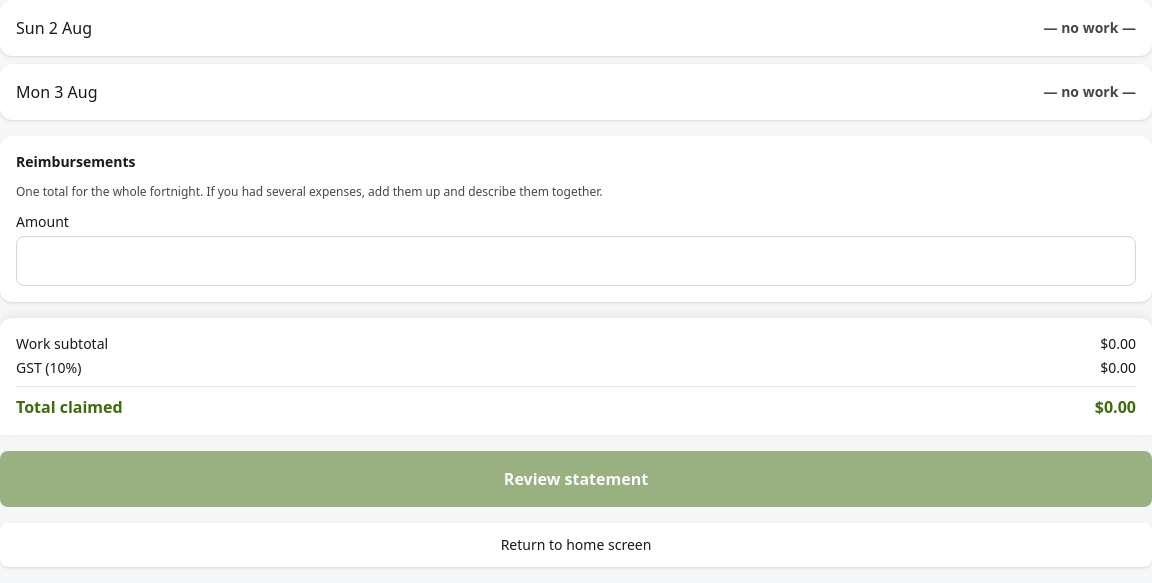
FortnightlyForm incomplete reimbursement gating › re-enables Review once a description is filled in
(page scrolled)
In the number field labelled "Amount": (576, 261) [16,236,1136,286], type "45"
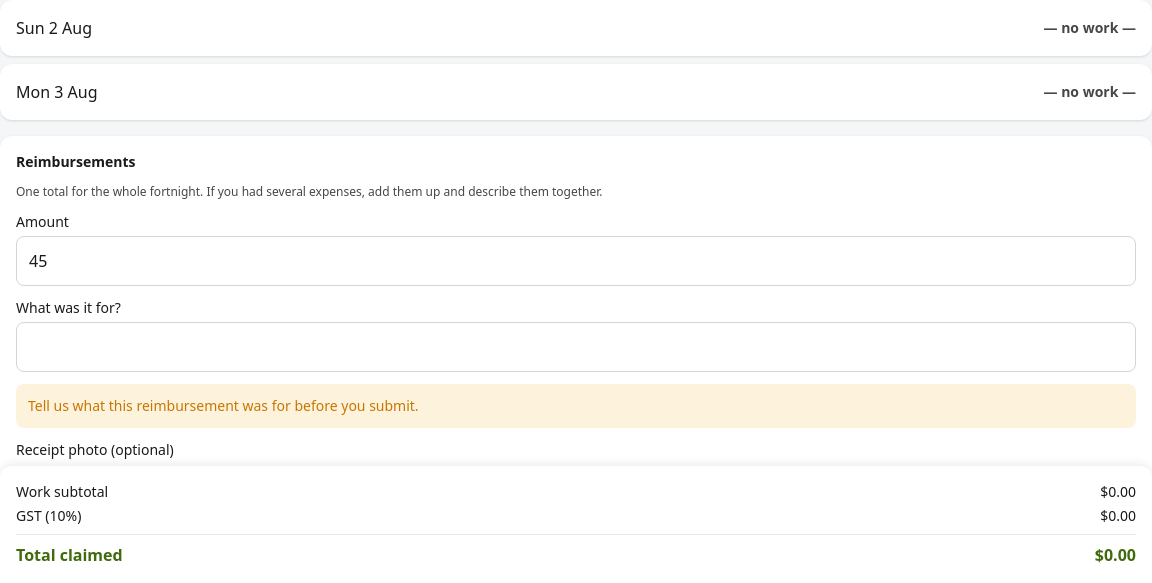
In the field labelled "What was it for?": (576, 347) [16,322,1136,372], type "Car wash"
(page scrolled)
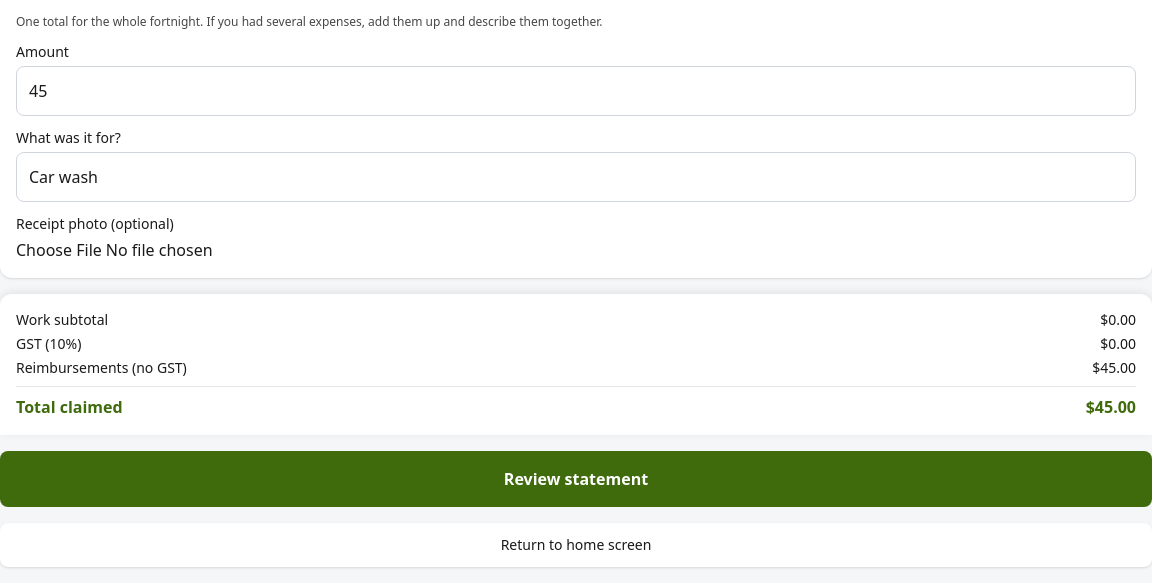
Now the button "Review statement" is enabled, box [0,451,1151,507]
